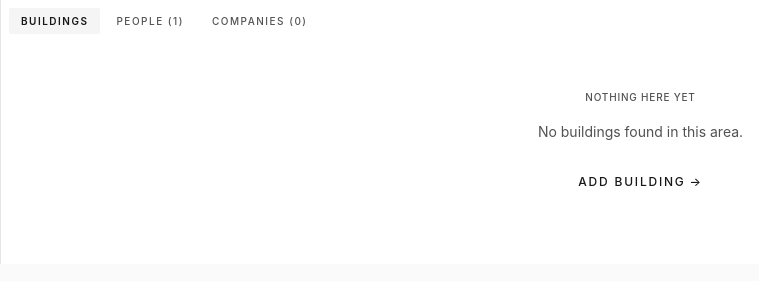
Test case: BuildingSidebar (QA 10.1 — global entity tabs) › People tab lists name, credit count, and nationality (or avatar affordance)
Click the tab "People (1)" at (150, 21), box [104,8,196,34]
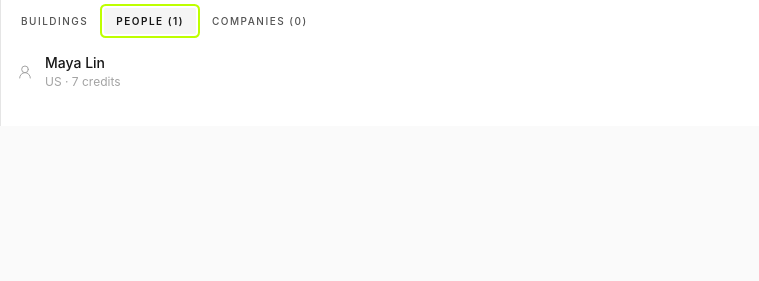
Expected: the text "US · 7 credits" is shown, [45,74,121,88]
